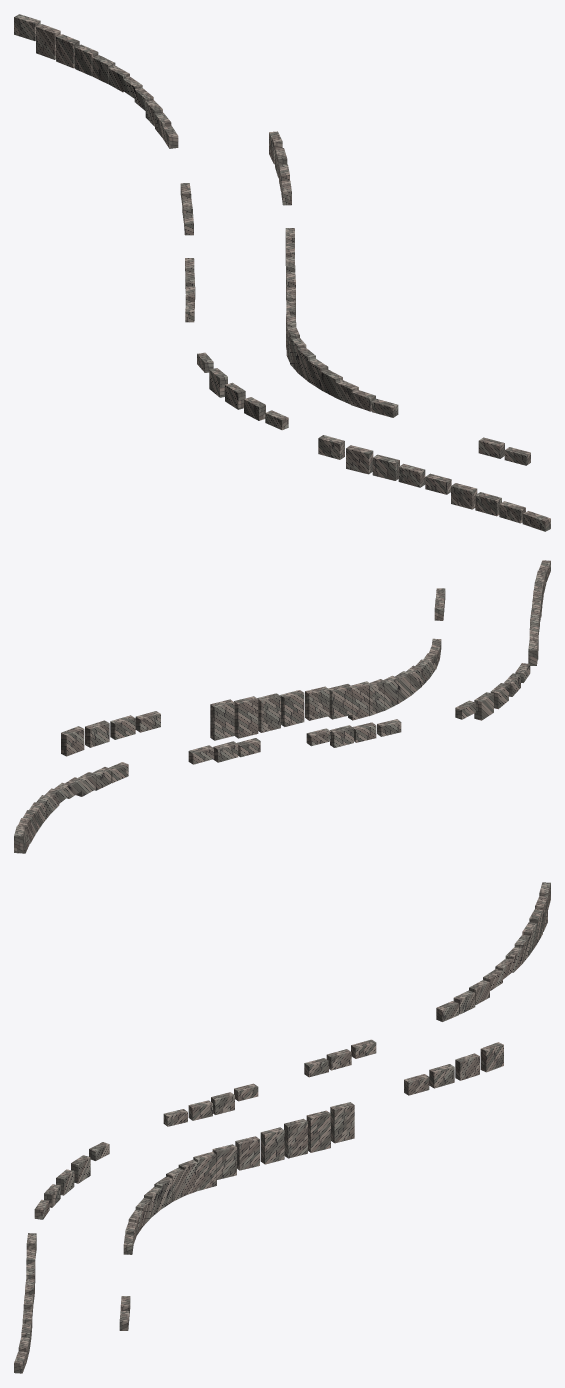
The model's file is cl-retwalls.glb.
3 views of the same model, one above another, from view 1: azimuth 30°, elevation 25°; view 2: azimuth 150°, elevation 25°; view 3: azimuth 330°, elevation 25° (orthographic). The views are drawn at different scales.
Visible parts, largest first — view 1: cl_retwalls; view 2: cl_retwalls; view 3: cl_retwalls.
Part boxes in pixels (left/top/right/bottom): cl_retwalls: left=14, top=14, right=550, bottom=531; cl_retwalls: left=14, top=560, right=550, bottom=853; cl_retwalls: left=14, top=882, right=550, bottom=1373.
Size of the model in its own units: 22.69 by 9.98 by 83.86.
1 material, 1 textured.
